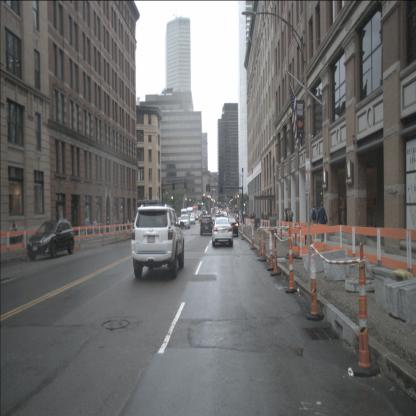cone: (350, 242, 380, 378), (305, 234, 324, 323), (285, 228, 297, 294), (271, 230, 281, 276), (267, 231, 277, 271), (260, 230, 269, 262), (257, 227, 264, 257), (250, 222, 257, 250), (20, 236, 27, 262), (241, 221, 245, 240), (77, 237, 82, 251), (102, 229, 106, 246), (123, 228, 127, 241), (115, 229, 118, 244)
